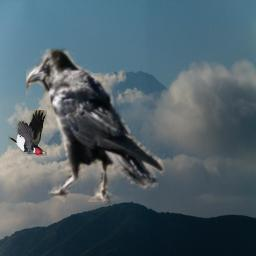Crow: (26, 47, 165, 208)
Woodpecker: (8, 110, 47, 156)
